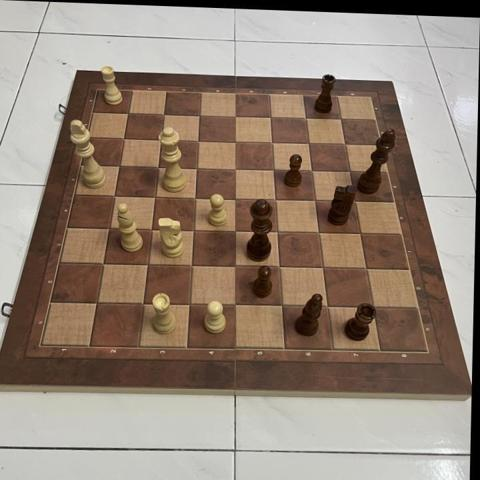xcorner: (332, 112, 348, 128), (297, 111, 313, 127), (262, 111, 278, 127), (226, 110, 242, 126), (190, 109, 206, 125), (155, 108, 171, 124), (118, 107, 134, 123), (337, 138, 353, 154), (300, 137, 316, 153), (263, 136, 279, 152), (226, 135, 242, 151), (189, 134, 205, 150), (152, 133, 168, 149), (115, 132, 131, 148), (341, 165, 357, 181), (303, 164, 319, 180), (265, 163, 281, 179), (227, 162, 243, 178), (188, 161, 204, 177), (149, 161, 165, 177), (110, 160, 126, 176), (346, 194, 362, 210), (307, 193, 323, 209), (267, 193, 283, 209), (227, 192, 243, 208), (187, 191, 203, 207), (147, 190, 163, 206), (106, 189, 122, 205), (352, 226, 368, 242), (311, 225, 327, 241), (269, 225, 285, 241), (228, 224, 244, 240), (186, 223, 202, 239), (144, 222, 160, 238), (101, 222, 117, 238), (358, 261, 374, 277), (315, 260, 331, 276), (272, 259, 288, 275), (228, 259, 244, 275), (184, 258, 200, 274), (140, 257, 156, 273), (96, 257, 112, 273), (364, 299, 380, 315), (319, 298, 335, 314), (274, 298, 290, 314), (228, 297, 244, 313), (183, 296, 199, 312), (136, 296, 152, 312), (90, 295, 106, 311)
